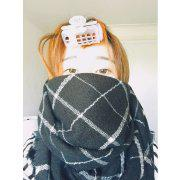OK: (59, 55, 123, 119)
